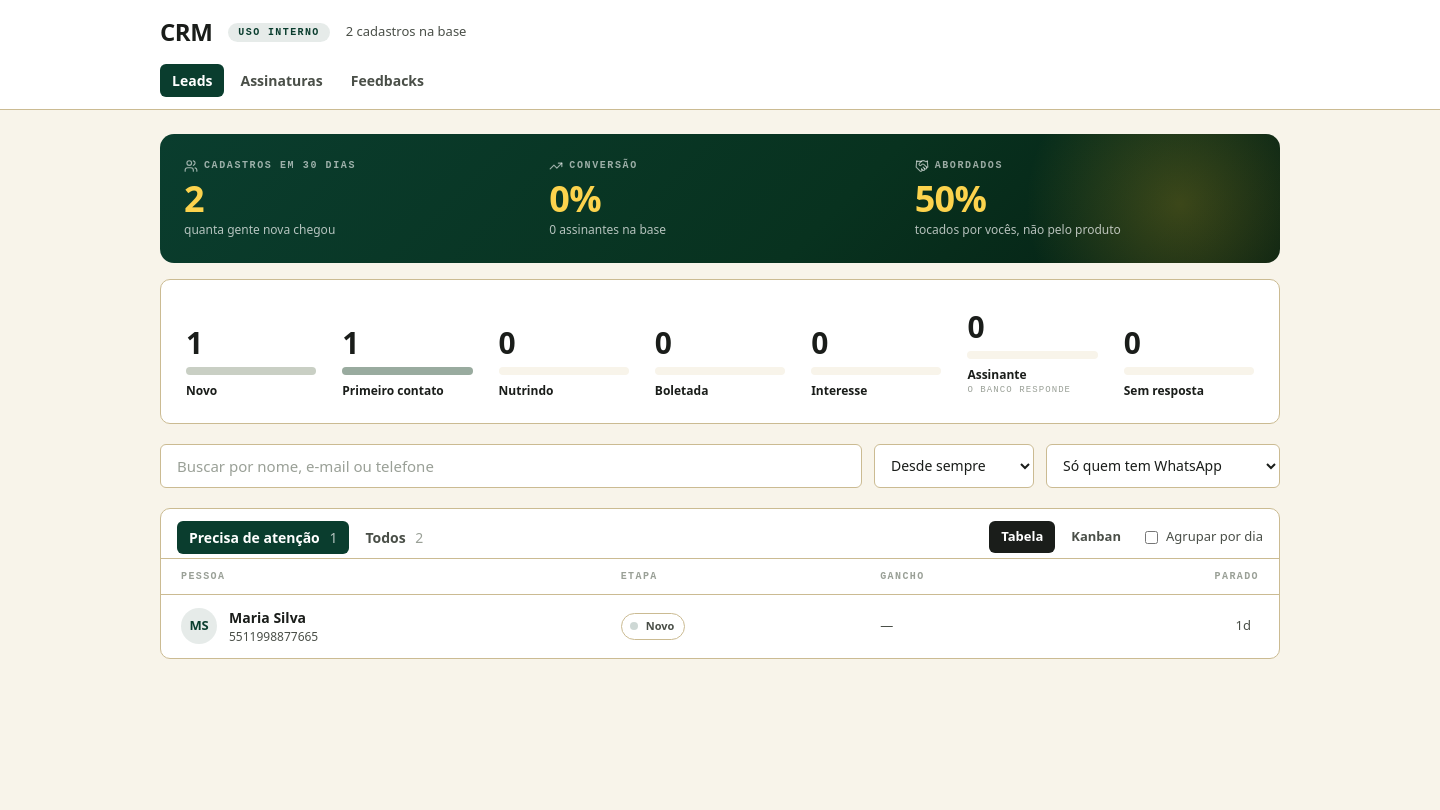
PainelCrm · o funil › clicar numa posição filtra a lista
Click the radio button labelled "Todos 2": click(394, 537) 353,520 -> 435,554
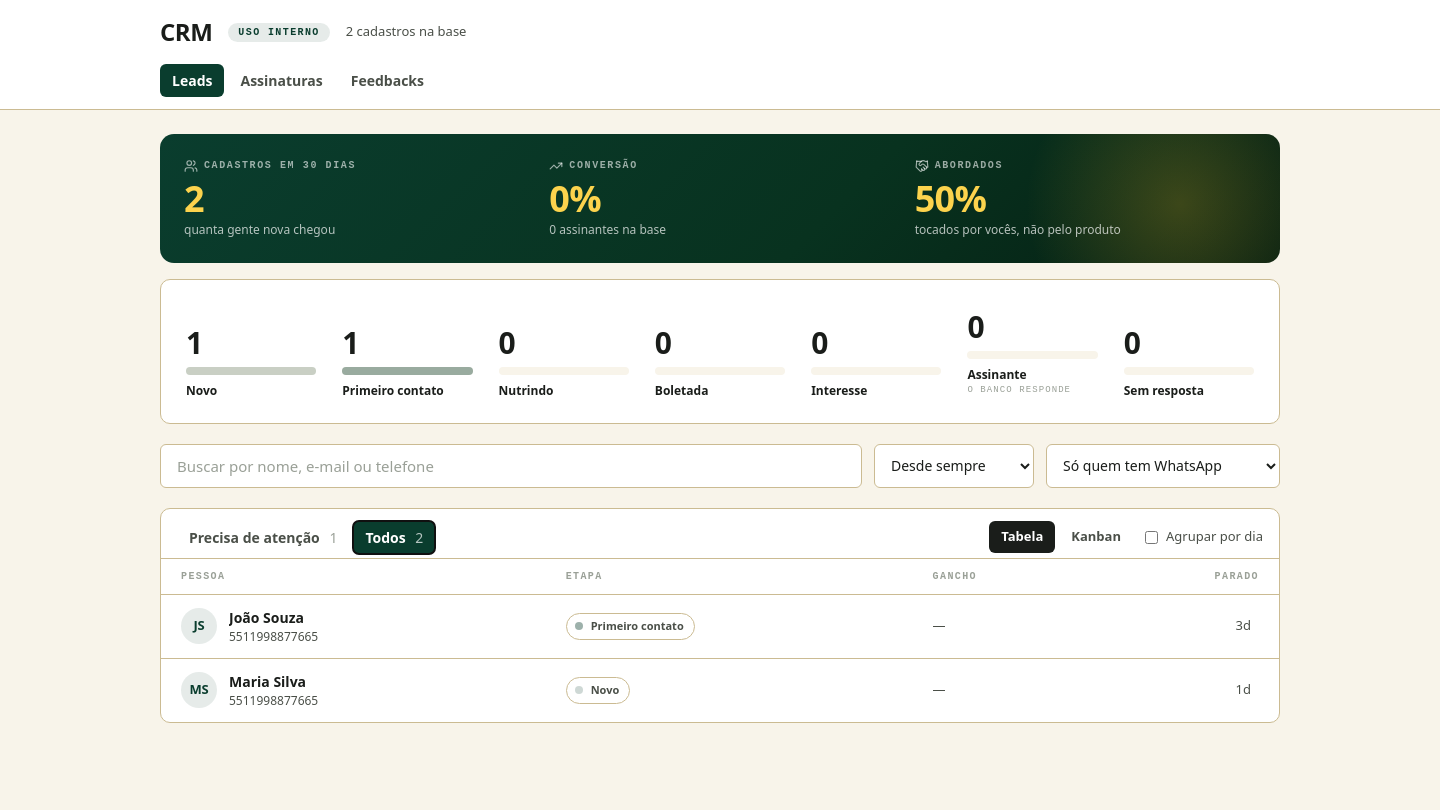
Click the button "1 Primeiro contato": click(407, 359) 333,312 -> 482,406
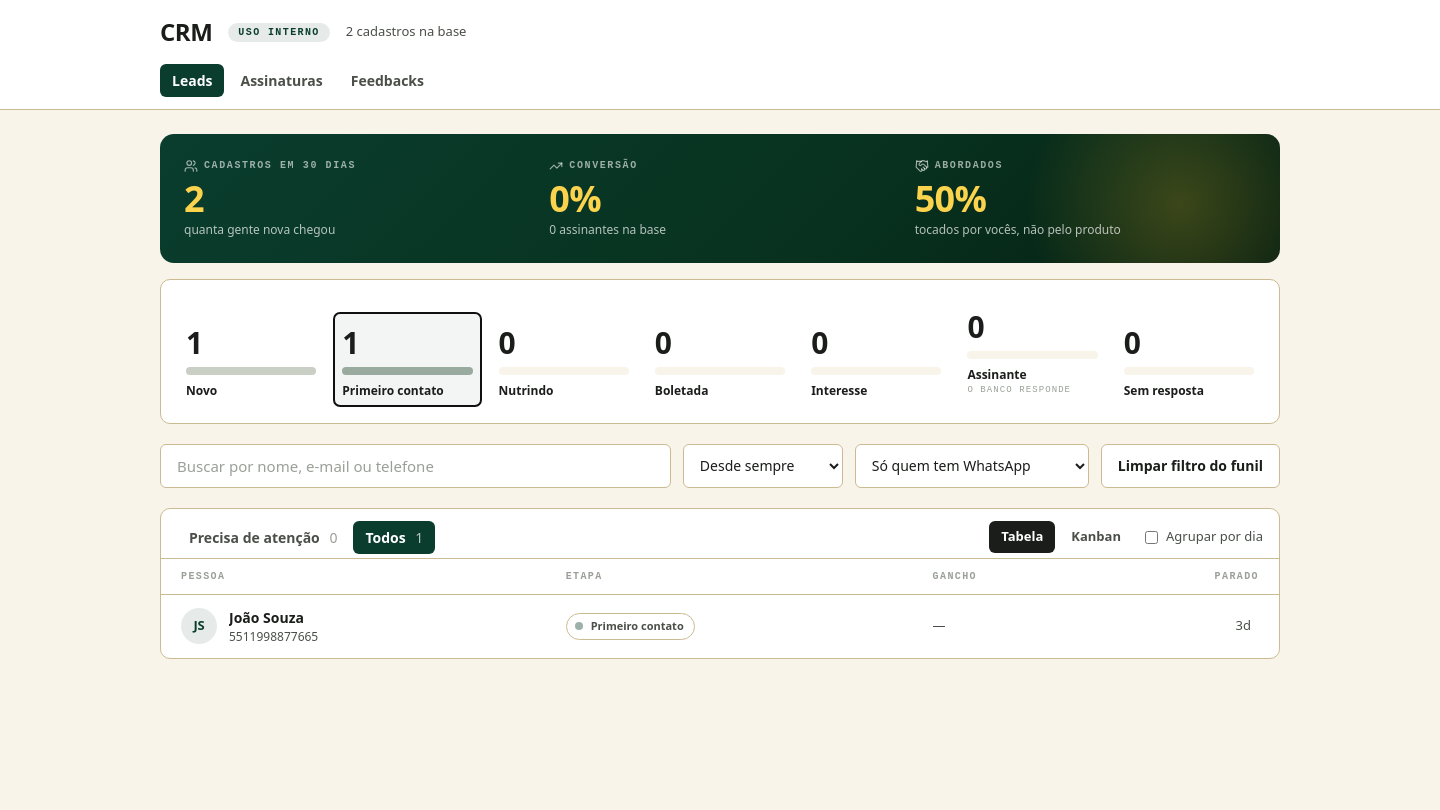
Result: the link "João Souza" is shown at 229,606 -> 304,628
Result: the link "Maria Silva" is gone
